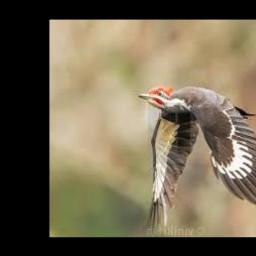Woodpecker: (138, 86, 256, 227)
